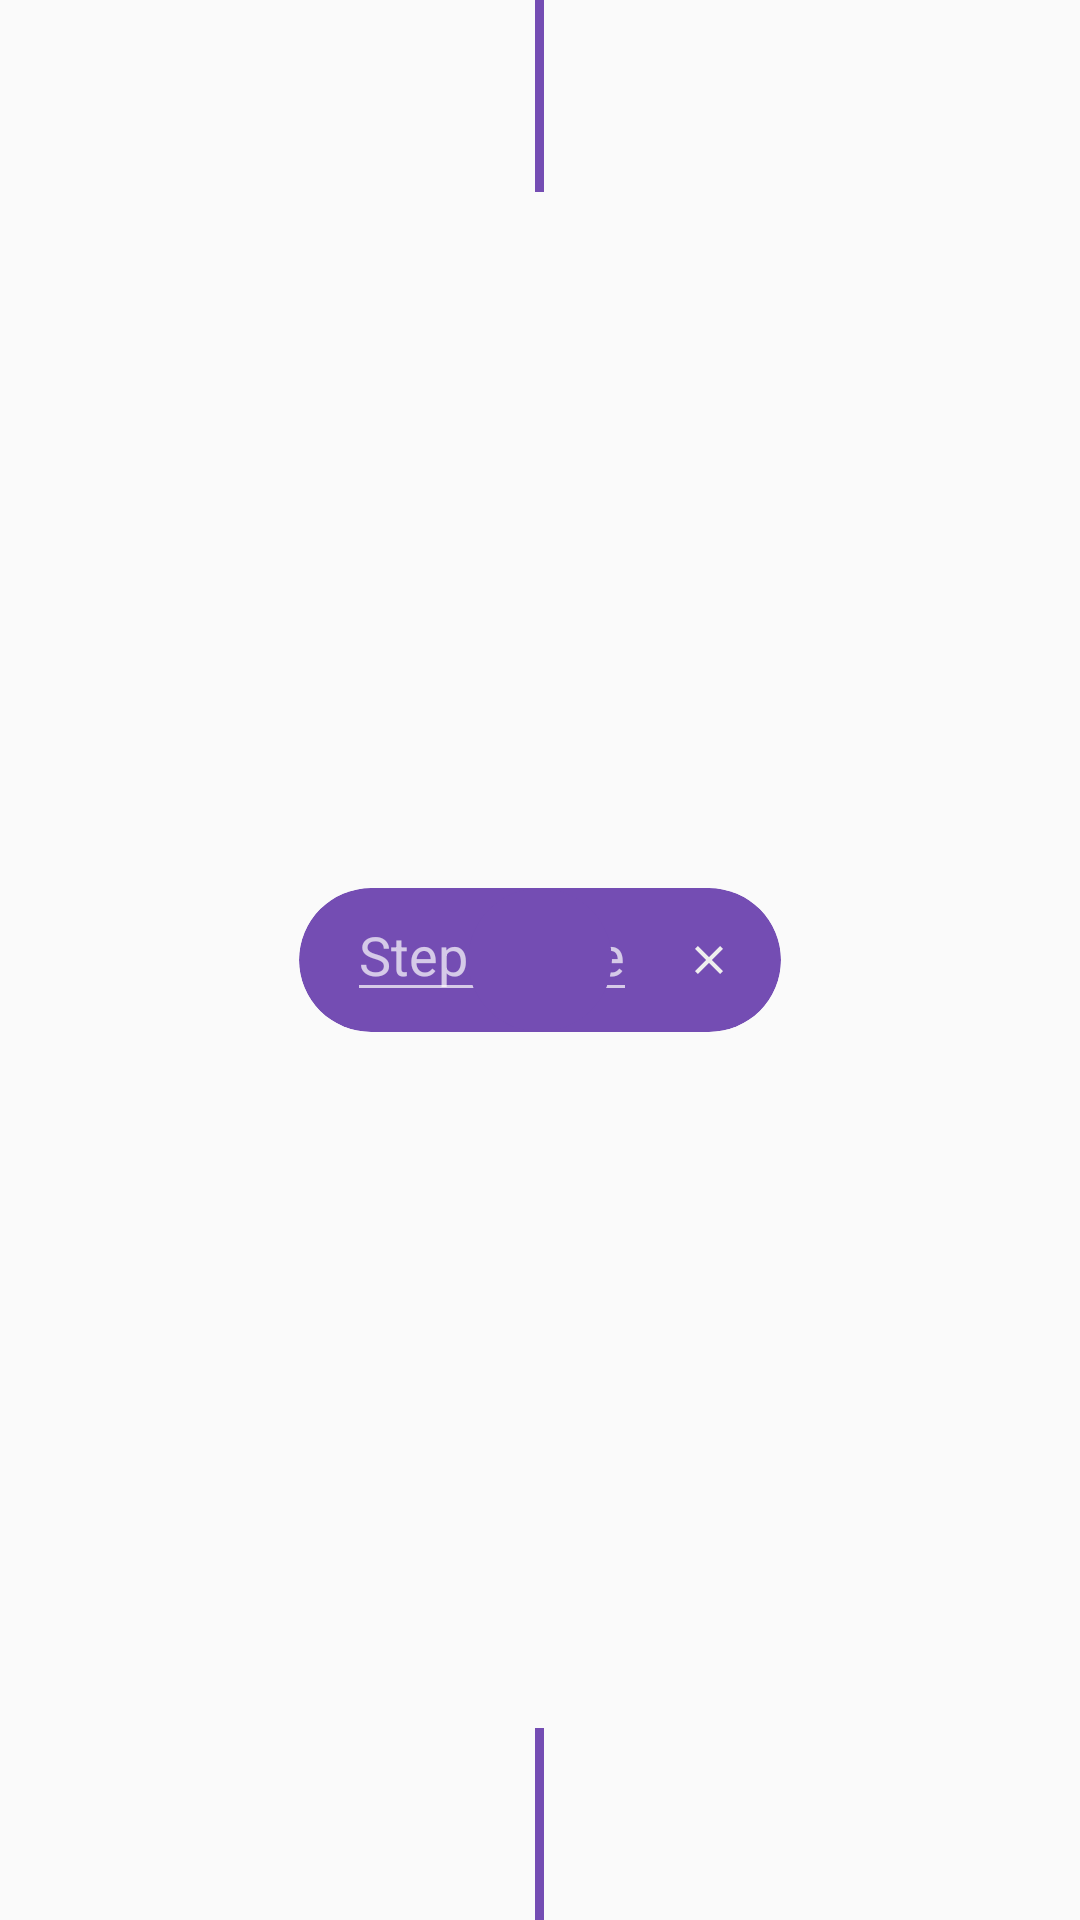

Screen size 1080×1920. Icon name, then its center in pixels as point (x, y):
Delete Step: point (709, 960)
